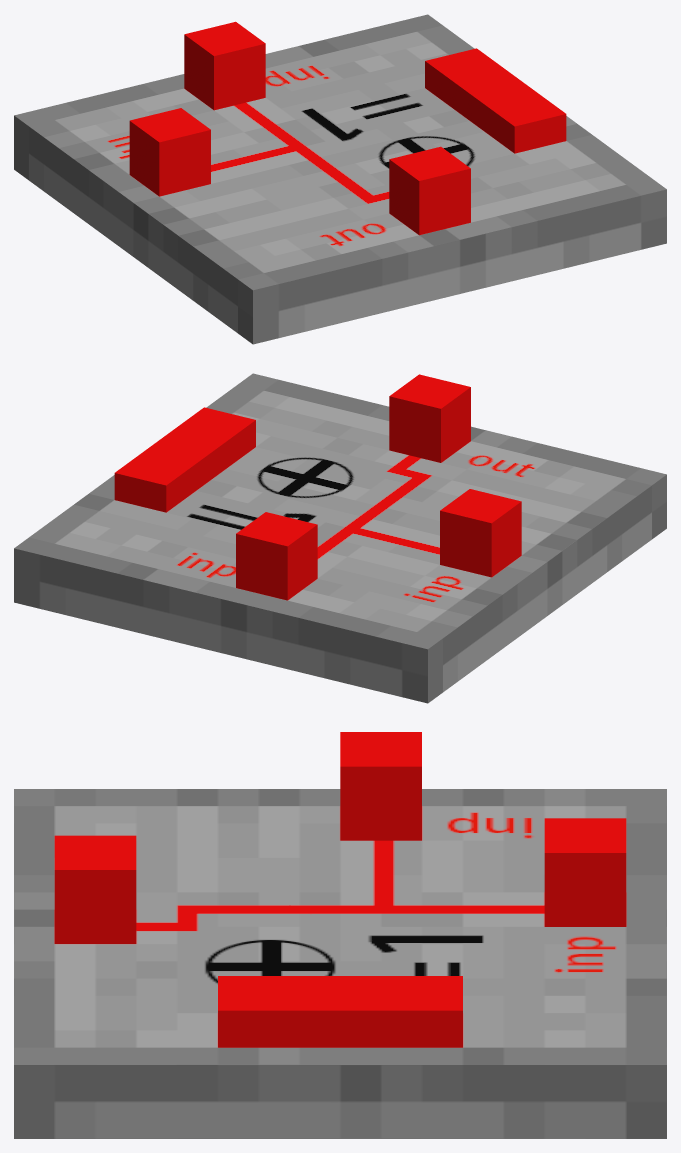
Rendered from xor_power.obj.
The picture shows the model from 3 angles, top to bottom: view 1: azimuth 30°, elevation 25°; view 2: azimuth 150°, elevation 25°; view 3: azimuth 270°, elevation 25°; orthographic projection. The views are drawn at different scales.
Visible parts, largest first — view 1: pedestal, state, inp2, out, inp1; view 2: pedestal, state, out, inp1, inp2; view 3: pedestal, state, inp2, out, inp1.
Boxes of the visible parts, x1,y1,x2,y2 form: pedestal: [14, 14, 666, 344]; state: [425, 48, 566, 153]; inp2: [184, 21, 265, 110]; out: [389, 146, 470, 235]; inp1: [129, 108, 210, 196]; pedestal: [14, 373, 666, 703]; state: [114, 407, 255, 512]; out: [389, 374, 470, 462]; inp1: [440, 489, 521, 577]; inp2: [236, 512, 317, 600]; pedestal: [14, 789, 666, 1138]; state: [218, 976, 462, 1047]; inp2: [544, 818, 626, 926]; out: [54, 835, 136, 943]; inp1: [340, 732, 421, 840].
Bounding box in the file's own units: 1 × 0.25 × 1.
